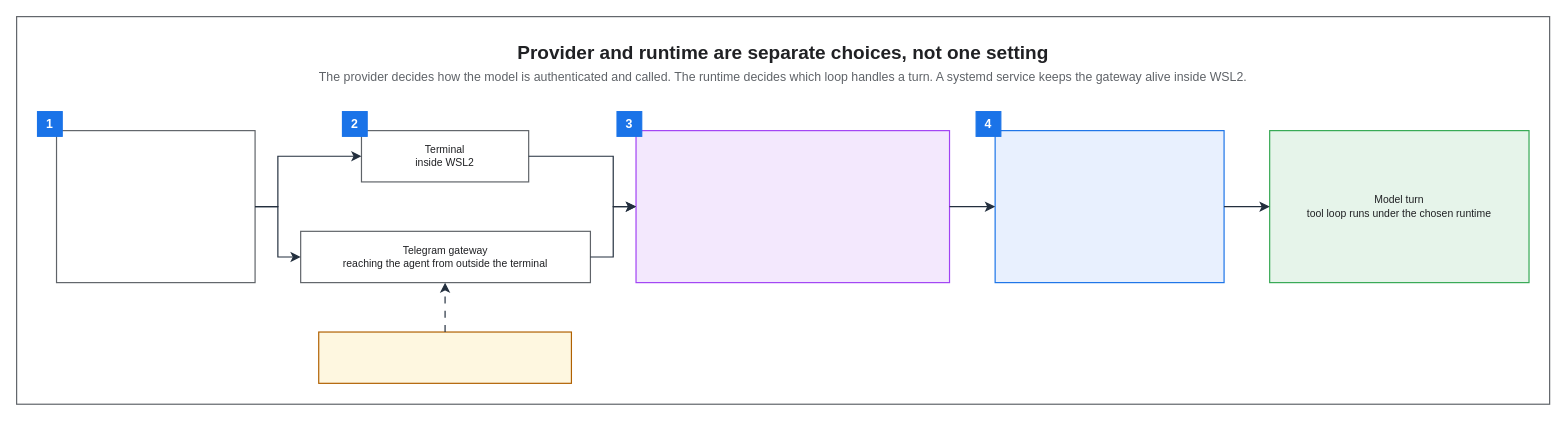
Some shapes in this 1567 by 422 pixel diagram are drawn without their labels. Here are the shapes that lost their labels. From the top down, the box of each, then its label:
(55, 130, 255, 283): User one session, two entry points
(635, 130, 950, 283): Hermes runtime standard chat loop, or the Codex app-server path
(994, 130, 1224, 283): openai-codex provider authentication and model call path
(318, 331, 572, 384): systemd service supervises the gateway process in WSL2
